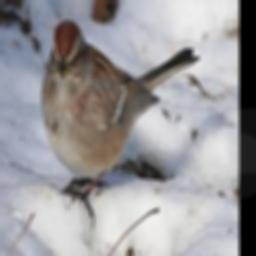Sparrow: (39, 11, 202, 233)
